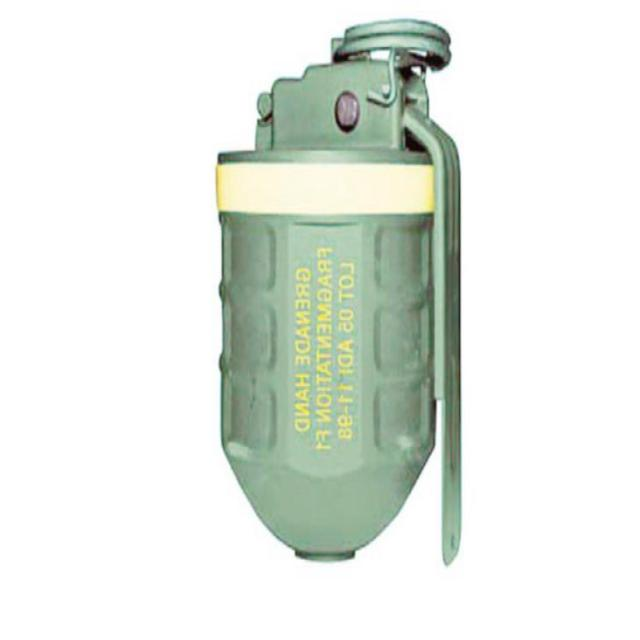grenade: (216, 21, 462, 570)
